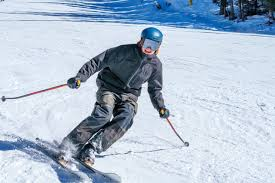skis: (30, 140, 121, 181)
